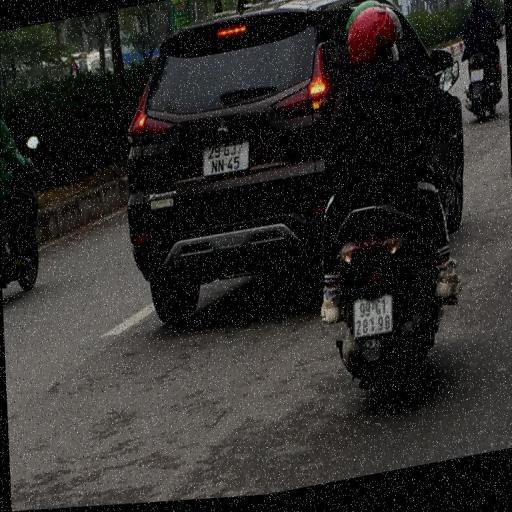bike: (308, 0, 465, 422), (0, 106, 43, 296), (459, 0, 504, 129)
numberplate: (351, 295, 394, 345), (469, 72, 484, 90)
with helmet: (344, 5, 404, 76), (468, 0, 485, 15)
